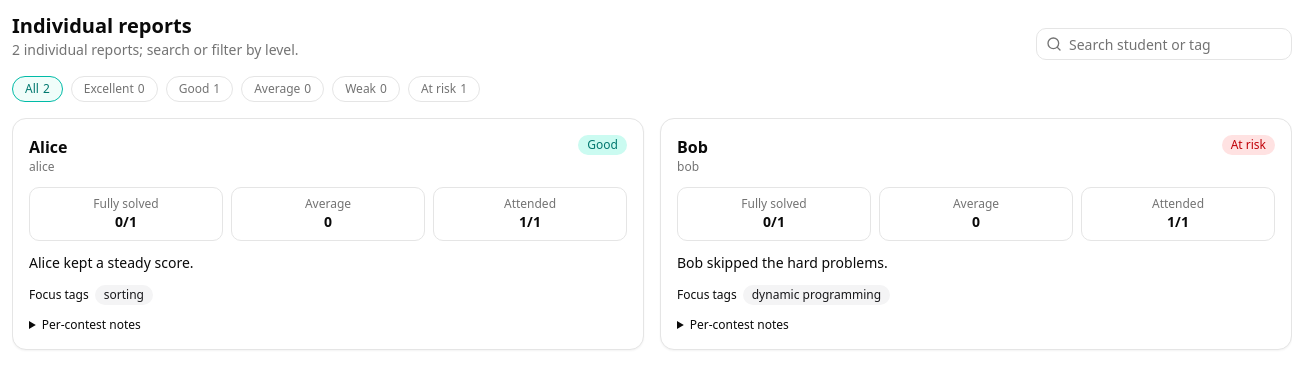
Scenario: contest analysis students section › filters the individual reports by search text and level
The image size is (1304, 367).
Expected: the heading "Alice" is shown, top-left (29, 135), bottom-right (68, 159)
Expected: the heading "Bob" is shown, top-left (677, 135), bottom-right (708, 159)
Step 1. Type "dynamic" into the field labelled "Search student or tag" → (1164, 44), box top-left (1036, 28), bottom-right (1292, 60)
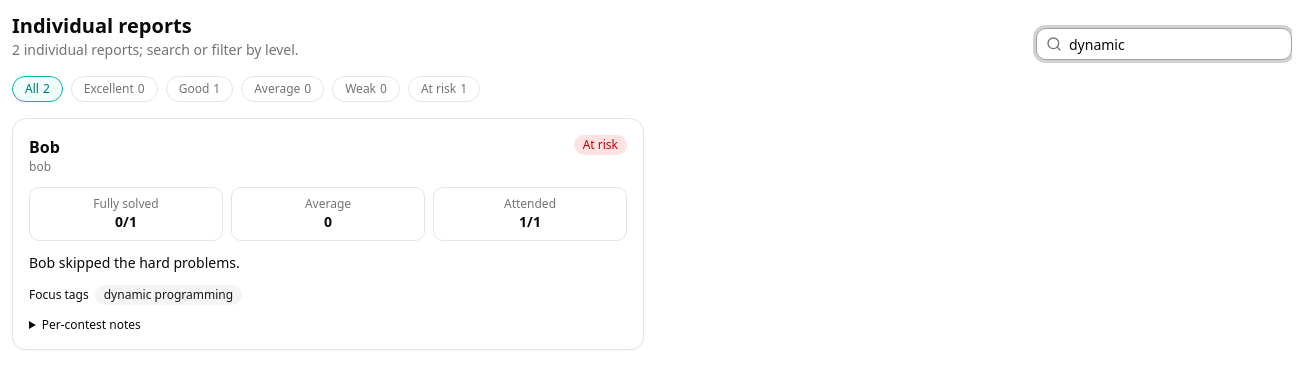
Expected: the heading "Bob" is shown, top-left (29, 135), bottom-right (60, 159)
Now the heading "Alice" is gone
Step 2. Clear the field named "Search student or tag" → (1164, 44), box top-left (1036, 28), bottom-right (1292, 60)
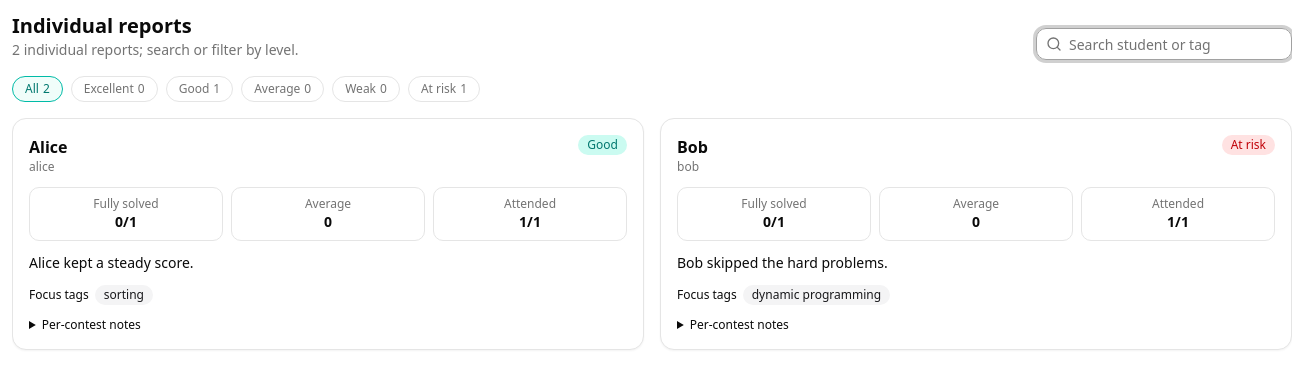
Now the heading "Alice" is shown, box top-left (29, 135), bottom-right (68, 159)
Step 3. Click the button "At risk1" → (444, 89), box top-left (408, 76), bottom-right (480, 102)
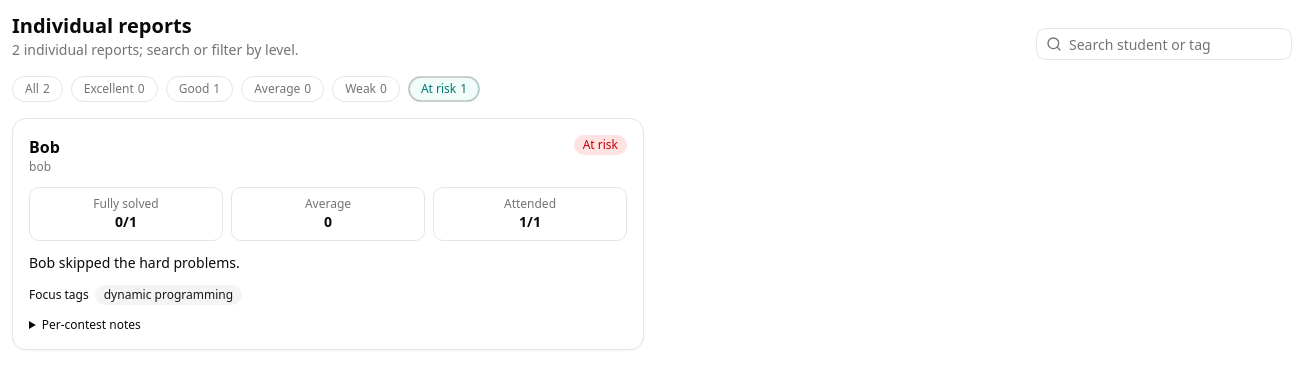
Expected: the heading "Bob" is shown, top-left (29, 135), bottom-right (60, 159)
Now the heading "Alice" is gone
